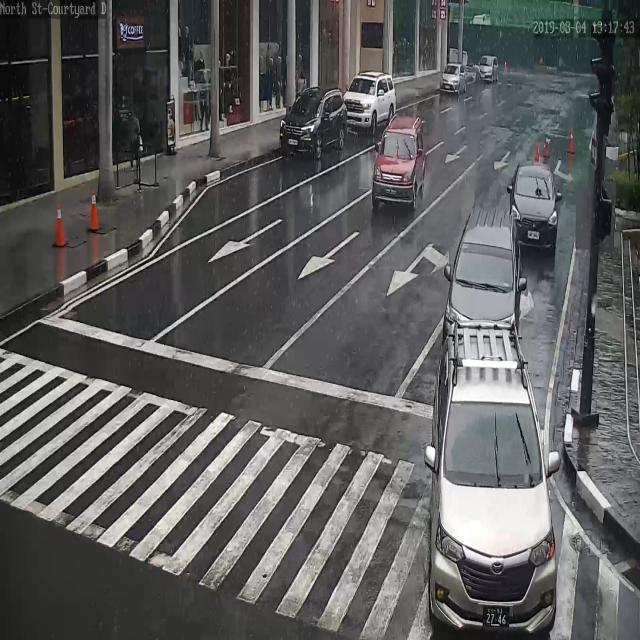car: (432, 322, 557, 640), (443, 204, 520, 345), (371, 114, 426, 208), (280, 85, 348, 154), (509, 160, 558, 251), (344, 73, 397, 132), (441, 62, 466, 93), (476, 54, 499, 85)
